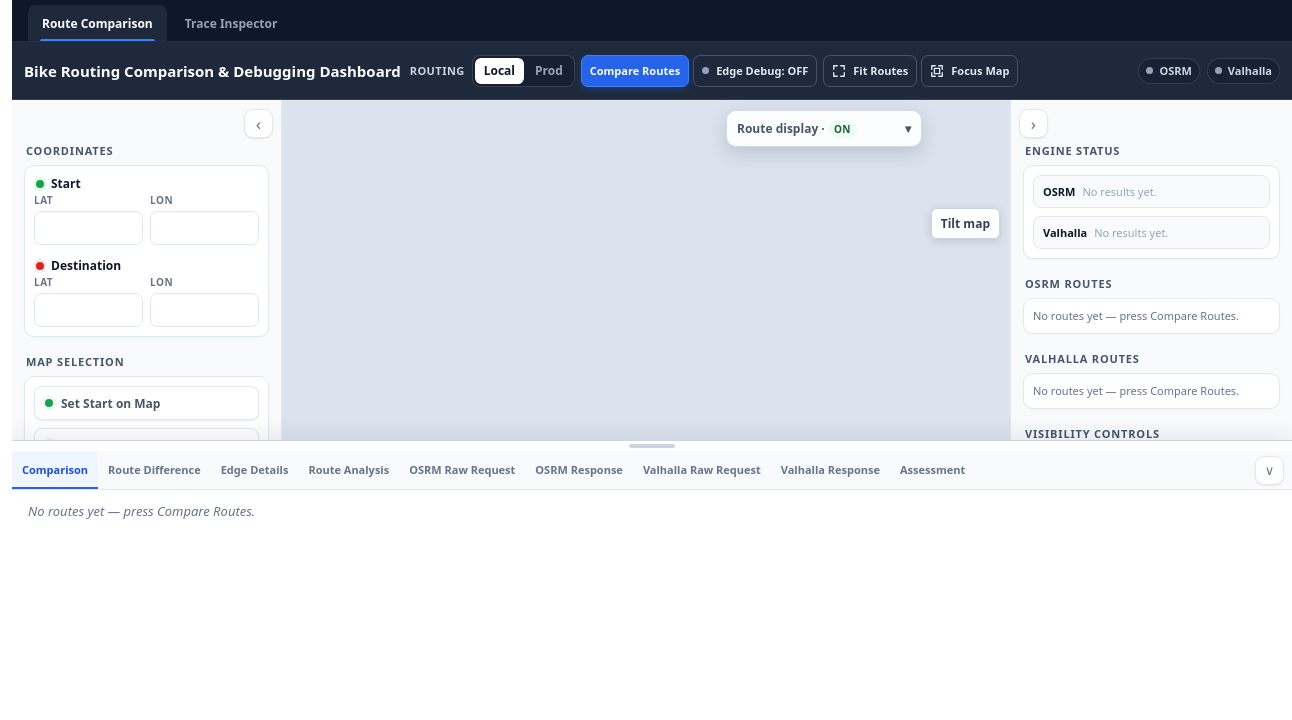
Test: App layout shell › switches the visible panel when a different bottom tab is clicked
This screenshot has width=1292, height=720.
Expected: the panel with test id "bottom-tab-panel" shows "No routes yet", [28,502,255,520]
Step 1. Click the tab "Route Difference" → (154, 470), box [98,451,211,489]
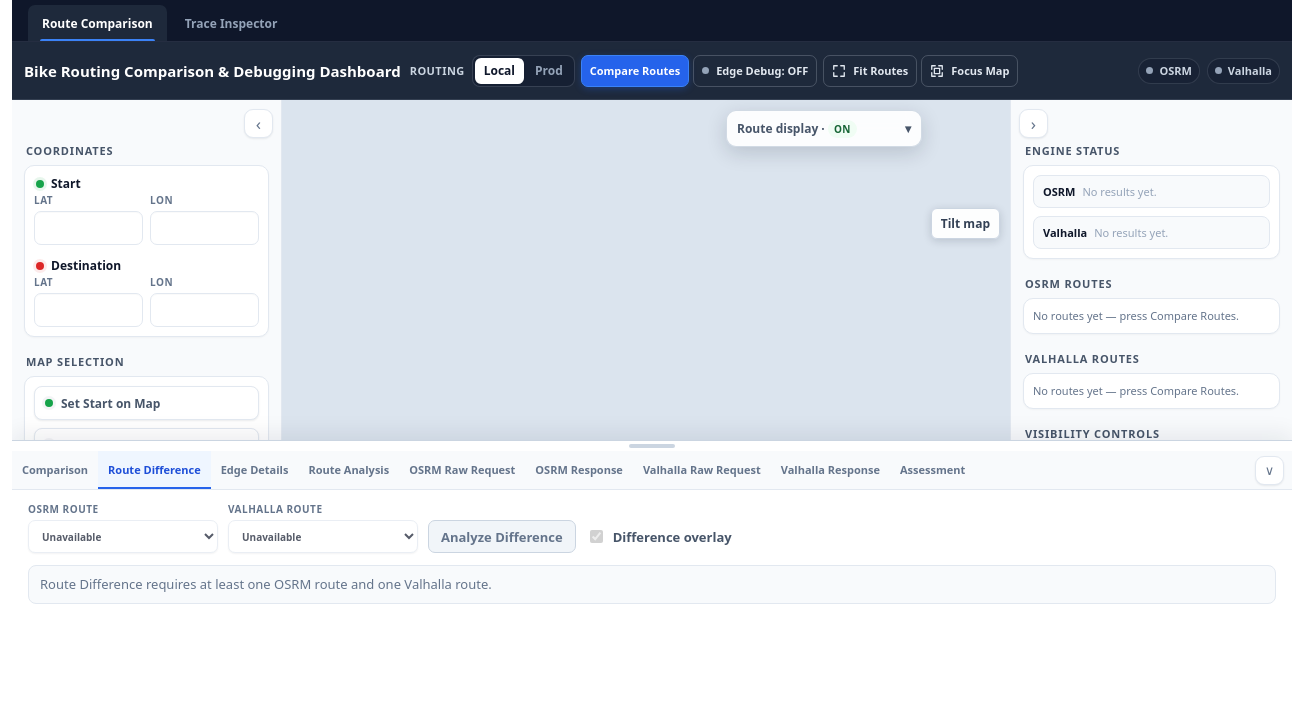
Now the panel with test id "bottom-tab-panel" shows "requires at least one OSRM route", box [40,575,492,593]
Step 2. Click the tab "Assessment" → (933, 470), box [890,451,975,489]
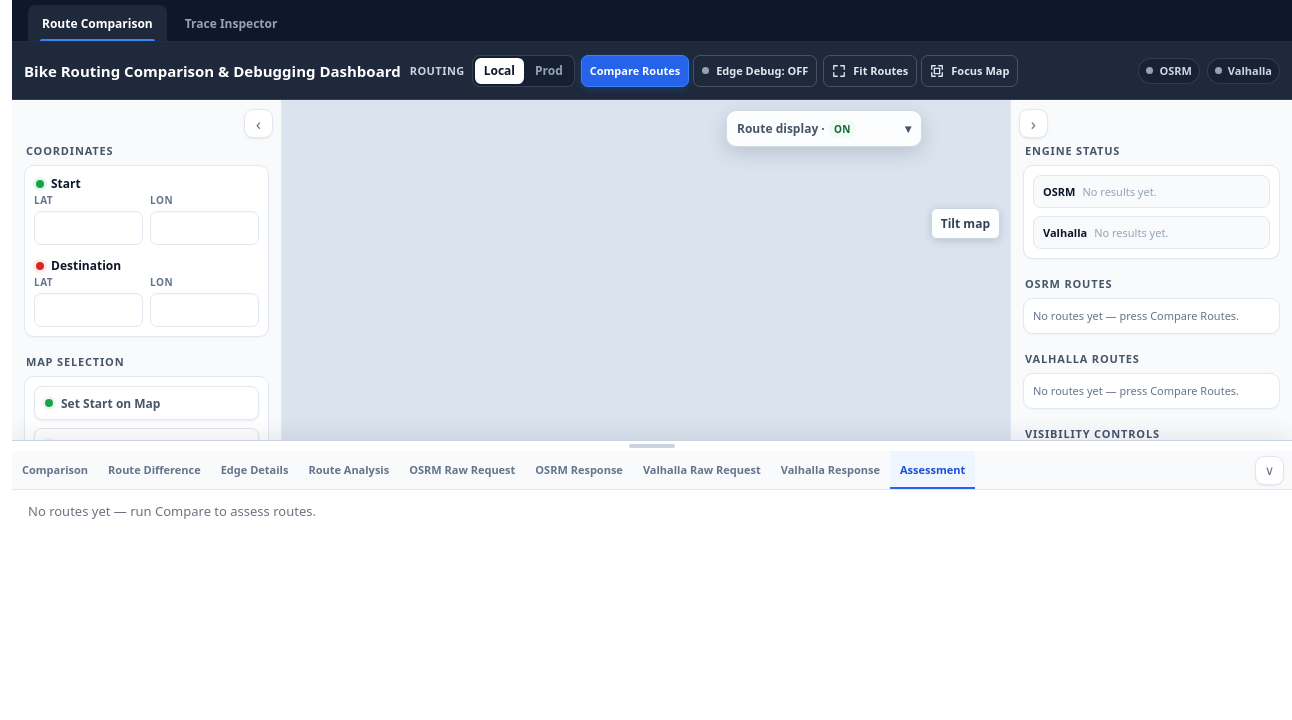
Now the panel with test id "bottom-tab-panel" shows "run Compare to assess routes", box [28,502,316,520]
